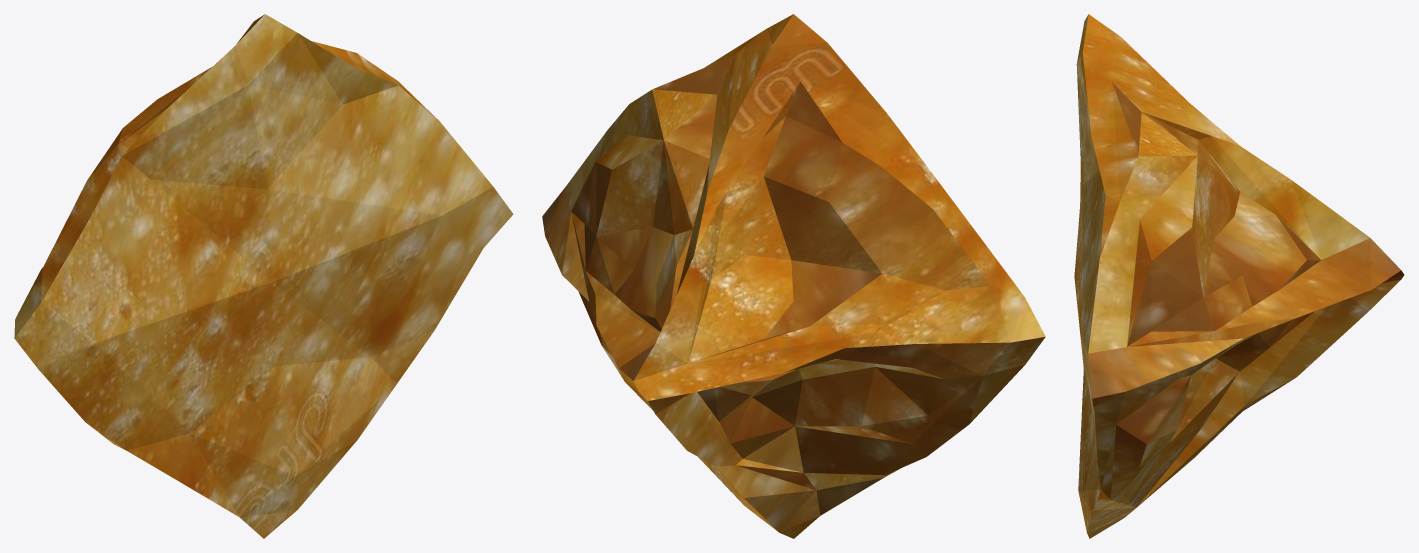
Rendered from shitty crab rangoon.fbx.
3 renders of one model, left to right at view 1: azimuth 30°, elevation 25°; view 2: azimuth 150°, elevation 25°; view 3: azimuth 270°, elevation 25°, orthographic.
Visible parts, largest first — view 1: shitty crab rangoon; view 2: shitty crab rangoon; view 3: shitty crab rangoon.
Part boxes in pixels (bbox=[...]): shitty crab rangoon: bbox=[14, 14, 513, 538]; shitty crab rangoon: bbox=[542, 14, 1045, 538]; shitty crab rangoon: bbox=[1074, 14, 1404, 538].
Size of the model in its own units: 100 by 176 by 176.
